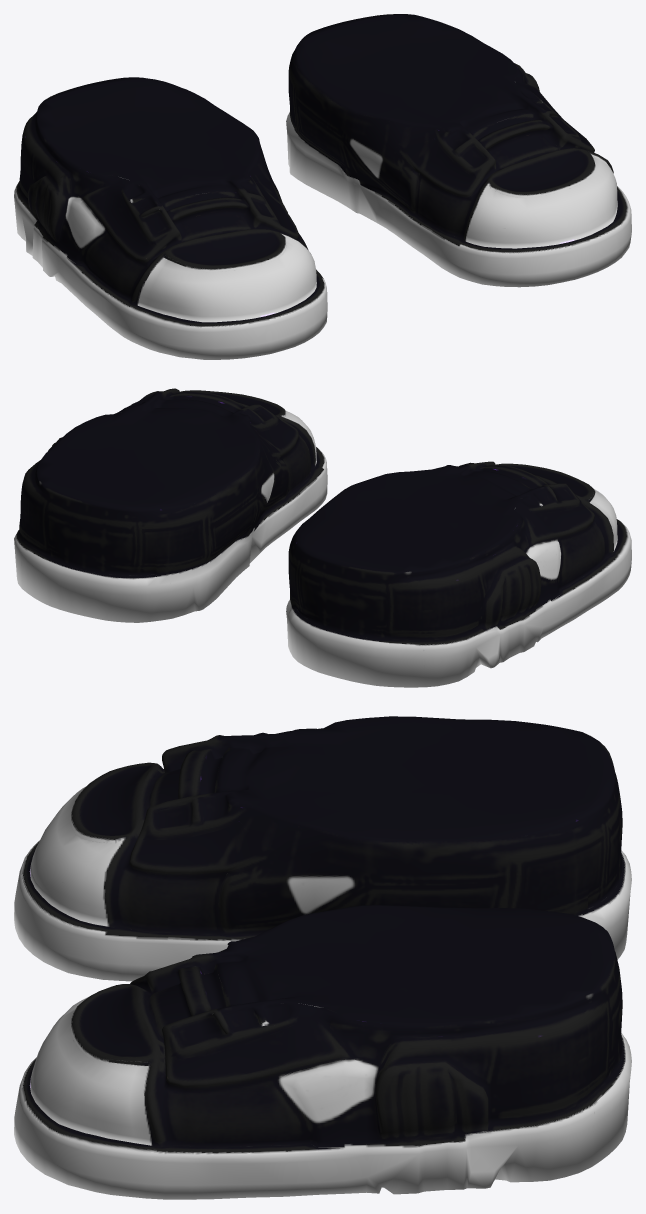
Rendered from Shoes_low.glb.
3 renders of one model, top to bottom at view 1: azimuth 30°, elevation 25°; view 2: azimuth 150°, elevation 25°; view 3: azimuth 270°, elevation 25°, orthographic. The views are drawn at different scales.
Parts seen in each view (by area): view 1: Shoes_low; view 2: Shoes_low; view 3: Shoes_low.
Part boxes in pixels (bbox=[...]): Shoes_low: bbox=[14, 14, 631, 359]; Shoes_low: bbox=[14, 388, 631, 687]; Shoes_low: bbox=[14, 716, 631, 1199].
Size of the model in its own units: 0.5209 by 0.1123 by 0.3856.
1 material, 1 textured.
